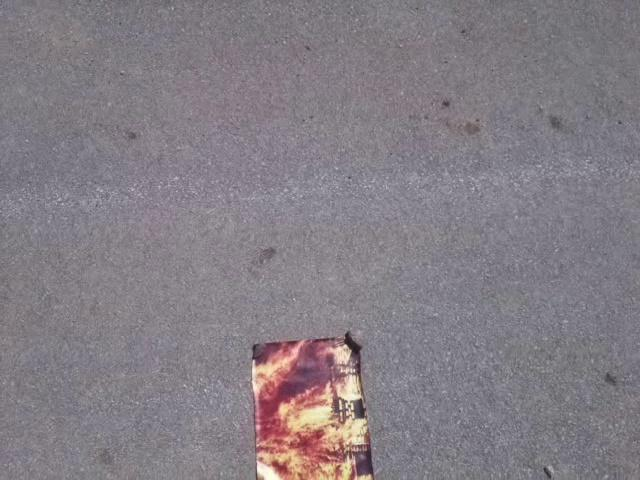fire-poster: (249, 331, 377, 479)
